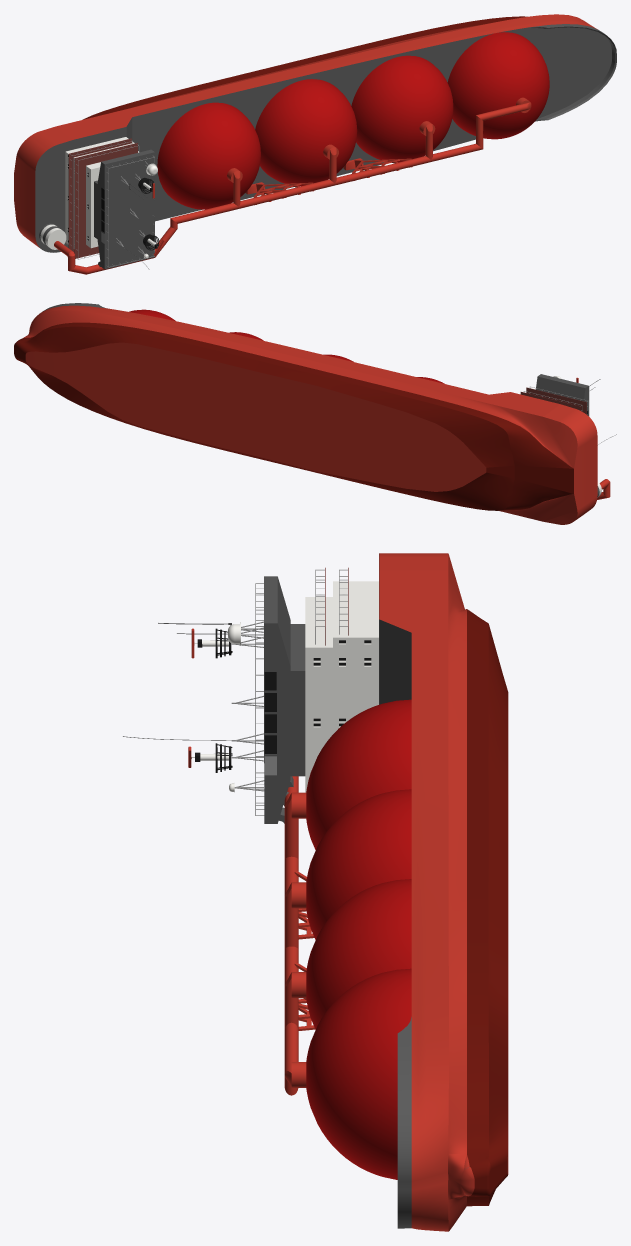
Rendered from boat v3.fbx.
The picture shows the model from 3 angles, top to bottom: view 1: azimuth 30°, elevation 25°; view 2: azimuth 150°, elevation 25°; view 3: azimuth 270°, elevation 25°; orthographic projection. The views are drawn at different scales.
Visible parts, largest first — view 1: hull, ball_1, ball_2, ball_3, ball_4, bridge, pipeline, top_deck, middle, bottom_deck, support_2, support_1; view 2: hull, bridge, top_deck; view 3: hull, ball_4, middle, ball_2, ball_1, ball_3, bridge, pipeline.
Part boxes in pixels (x1,y1,x2,y2): hull: (14, 14, 616, 252); ball_1: (157, 102, 260, 209); ball_2: (255, 79, 357, 186); ball_3: (351, 55, 453, 162); ball_4: (447, 32, 549, 139); bridge: (94, 149, 154, 269); pipeline: (54, 97, 531, 274); top_deck: (74, 143, 137, 258); middle: (65, 137, 138, 249); bottom_deck: (68, 138, 131, 252); support_2: (343, 158, 412, 180); support_1: (245, 182, 313, 204); hull: (14, 303, 597, 524); bridge: (536, 374, 588, 415); top_deck: (526, 387, 586, 414); hull: (379, 553, 508, 1231); ball_4: (306, 968, 411, 1179); middle: (305, 581, 378, 792); ball_2: (306, 789, 411, 939); ball_1: (306, 699, 411, 849); ball_3: (306, 879, 411, 1029); bridge: (264, 576, 305, 823); pipeline: (284, 776, 306, 1095).
Size of the model in its own units: 14.01 by 2.63 by 4.18.
